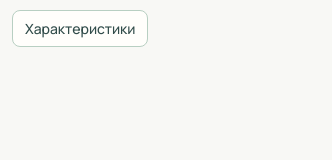
Test: missing artifact shows an error without fabricating a download
Click the button "Характеристики" at (80, 28), box x1=12 y1=10 x2=148 y2=47
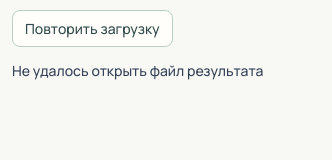
Result: the message shows "Не удалось" at x1=12 y1=61 x2=263 y2=80
